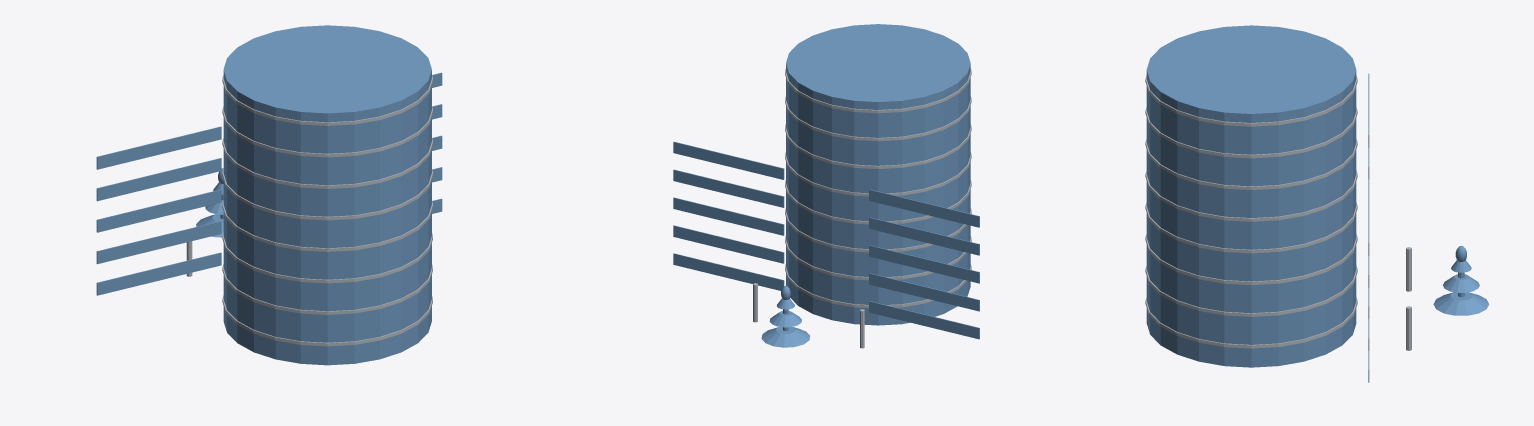
File: env_lm2_pavilion.fbx
The picture shows the model from 3 angles, left to right: view 1: azimuth 30°, elevation 25°; view 2: azimuth 150°, elevation 25°; view 3: azimuth 270°, elevation 25°; orthographic projection. The views are drawn at different scales.
Visible parts, largest first — view 1: env_lm2_pavilion_geo_LOD0; view 2: env_lm2_pavilion_geo_LOD0; view 3: env_lm2_pavilion_geo_LOD0.
Boxes of the visible parts, bbox=[...] form: env_lm2_pavilion_geo_LOD0: bbox=[96, 25, 442, 365]; env_lm2_pavilion_geo_LOD0: bbox=[673, 24, 979, 348]; env_lm2_pavilion_geo_LOD0: bbox=[1145, 25, 1489, 382].
Size of what is drawn, in the model's own units: 36 by 24.8 by 34.
